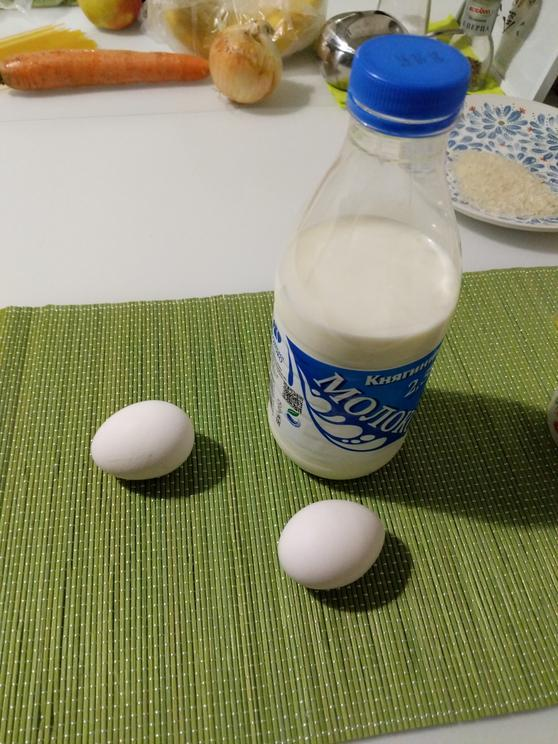egg: (272, 491, 397, 595), (83, 393, 203, 484)
milk: (251, 30, 478, 486)
